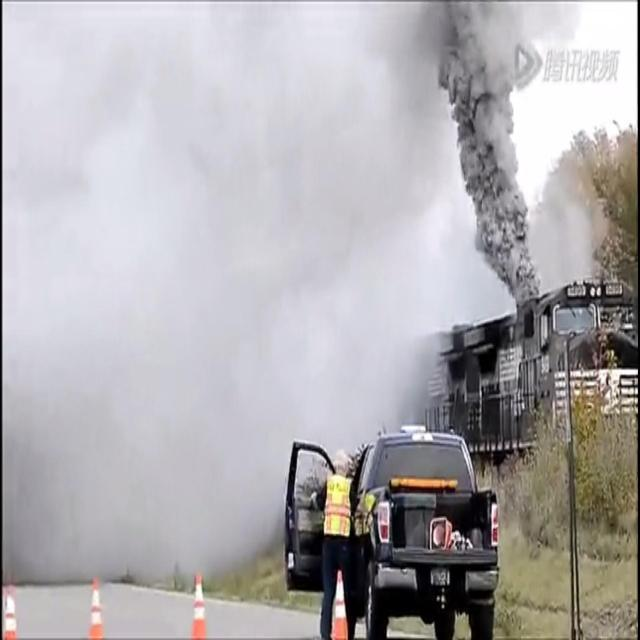Smoke: (2, 0, 614, 588)
